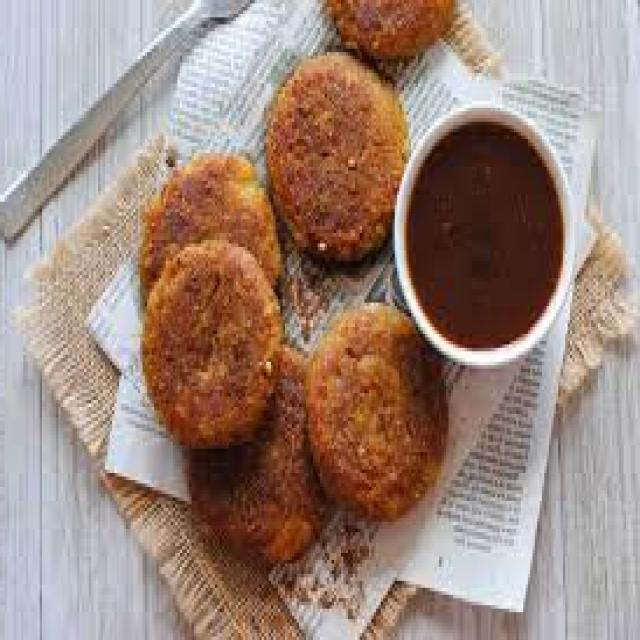Aloo Tikki: (304, 304, 447, 520), (266, 55, 409, 264), (188, 344, 325, 560), (143, 242, 281, 449), (144, 148, 276, 300), (329, 0, 458, 63)
